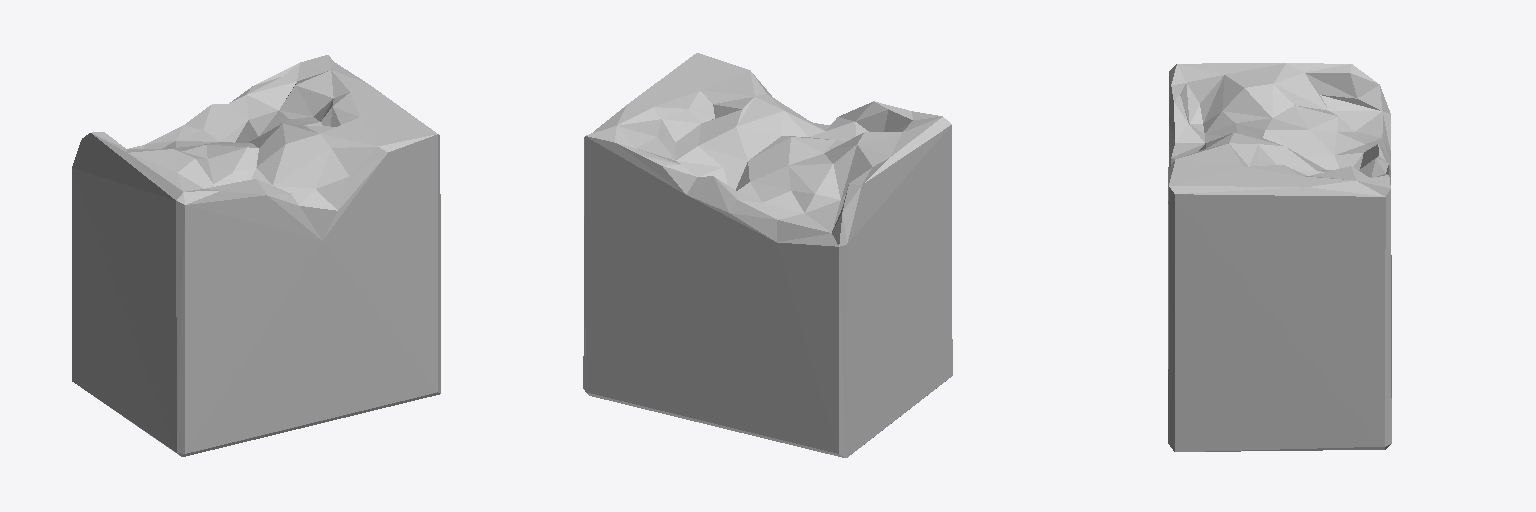
3 views of the same model, side by side, from view 1: azimuth 30°, elevation 25°; view 2: azimuth 150°, elevation 25°; view 3: azimuth 270°, elevation 25° (orthographic).
Visible parts, largest first — view 1: Liquid_Domain; view 2: Liquid_Domain; view 3: Liquid_Domain.
Part boxes in pixels (bbox=[...]): Liquid_Domain: bbox=[72, 55, 440, 456]; Liquid_Domain: bbox=[583, 53, 952, 457]; Liquid_Domain: bbox=[1168, 63, 1391, 451].
Size of the model in its own units: 16.97 by 16.23 by 12.43.